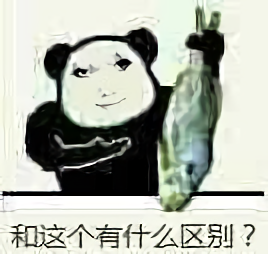dragon: (72, 56, 134, 111)
